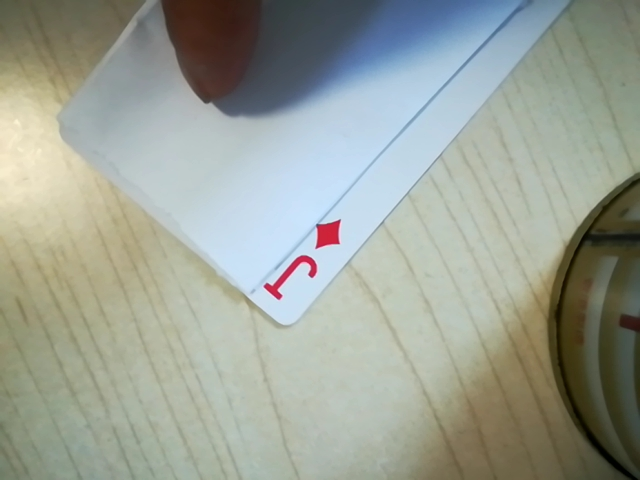fk j: (260, 214, 348, 303)
